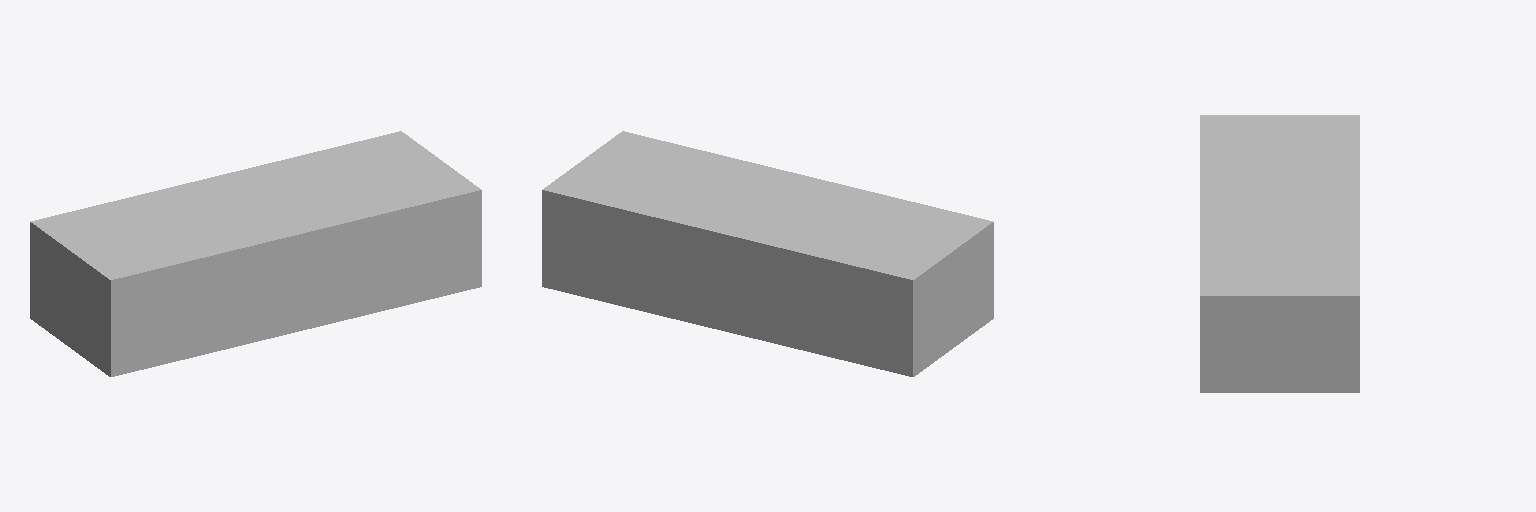
The model's file is testlevel.obj.
3 renders of one model, left to right at view 1: azimuth 30°, elevation 25°; view 2: azimuth 150°, elevation 25°; view 3: azimuth 270°, elevation 25°, orthographic.
Parts seen in each view (by area): view 1: pCube1; view 2: pCube1; view 3: pCube1.
Boxes of the visible parts, <box> form: pCube1: <box>30,131,481,376</box>; pCube1: <box>542,131,993,376</box>; pCube1: <box>1200,115,1359,392</box>.
Bounding box in the file's own units: 8 × 2.07 × 3.